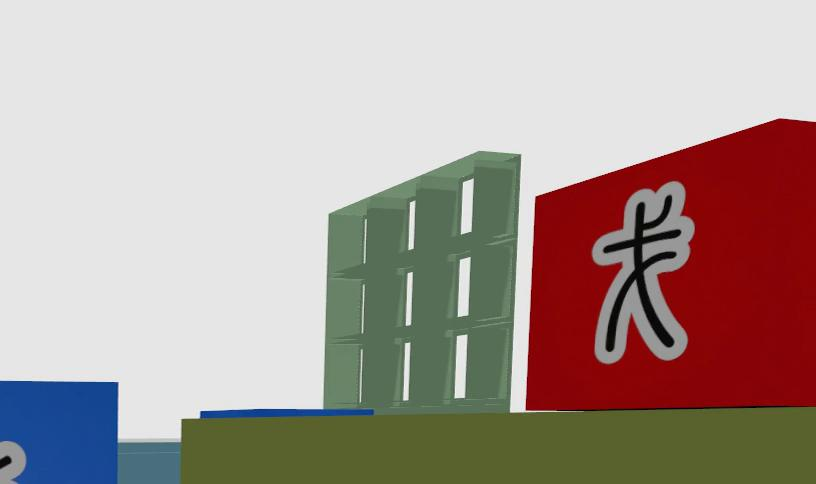KFS_FAKE: (526, 122, 815, 409), (593, 182, 694, 364)
KFS_REAL: (0, 382, 115, 484), (0, 439, 26, 484)
